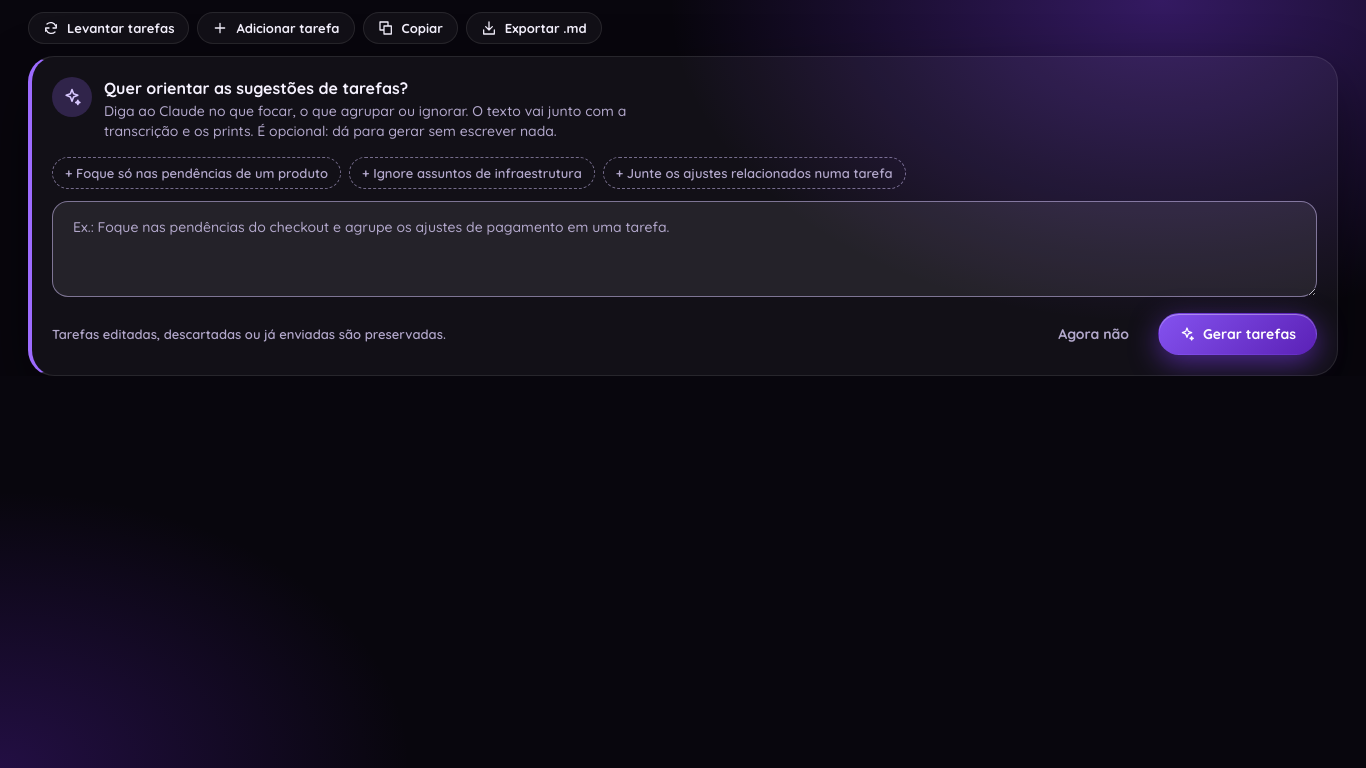
TasksTab › 'Agora não' sem texto deixa o resumo como opcional
What coordinates should you click on to do the following:
click the button "Agora não"
I would click on:
 (1094, 334)
Its box is [1037,313,1150,355].
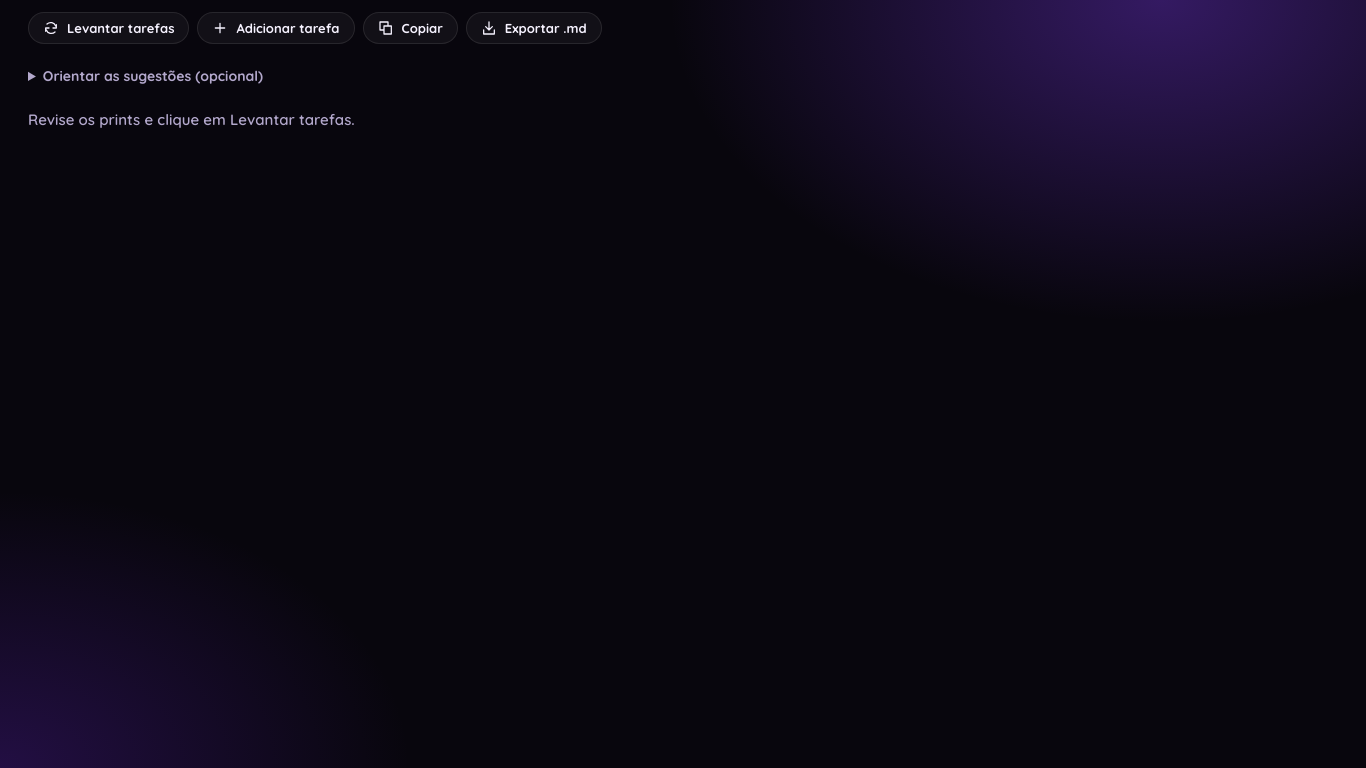
expect the heading "Orientar as sugestões (opcional)" is shown: met, box [43,67,263,85]
